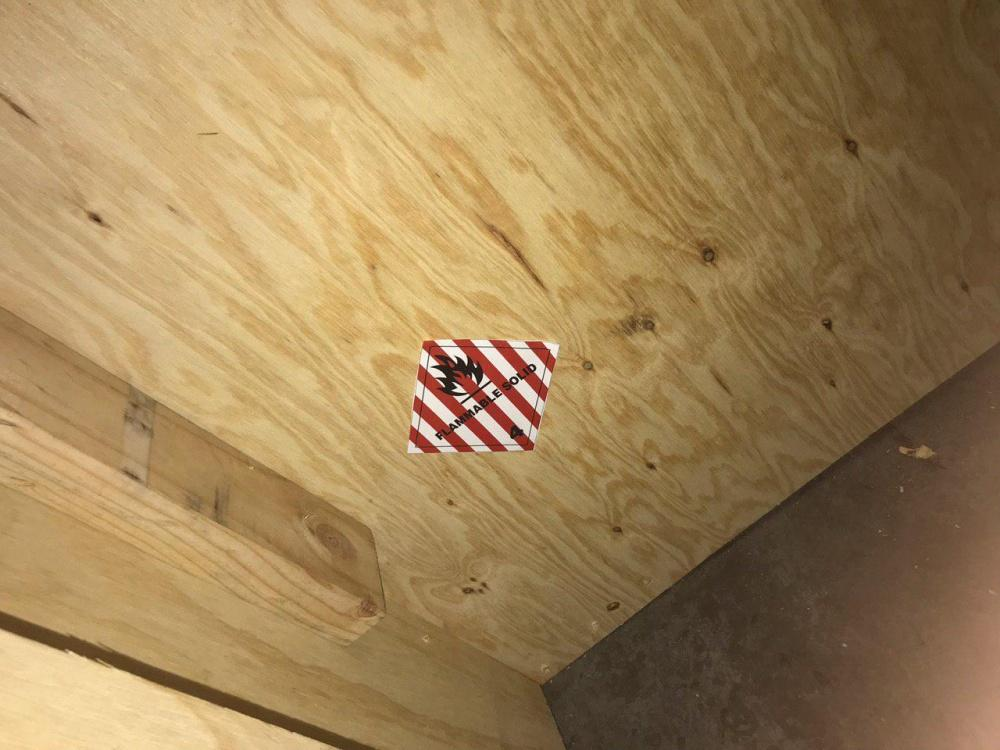flammable-solid: (409, 341, 558, 456)
